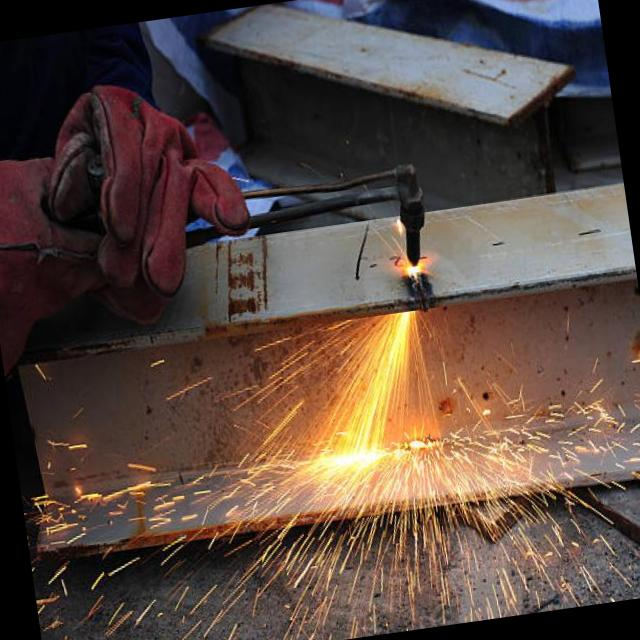Gloves: (0, 62, 268, 373)
